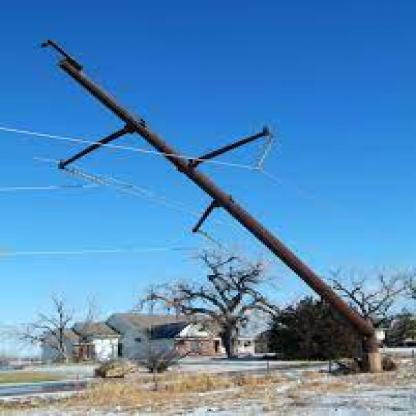Electrical Pole: (15, 22, 409, 357)
